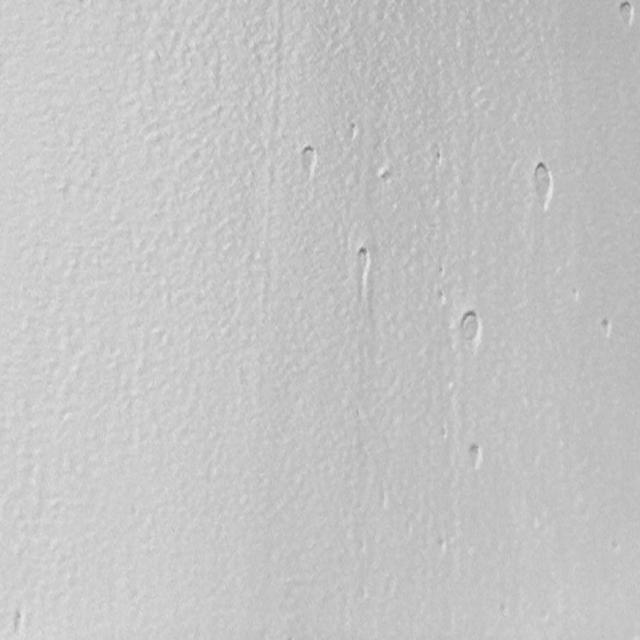pin holes: (526, 160, 561, 217), (456, 309, 486, 350), (297, 146, 319, 180), (615, 0, 637, 31), (355, 245, 375, 277), (465, 442, 487, 471), (7, 607, 28, 637), (596, 314, 615, 340), (492, 601, 512, 622), (430, 147, 447, 170), (433, 536, 449, 558), (435, 284, 450, 306), (377, 167, 393, 183), (346, 121, 359, 140)
